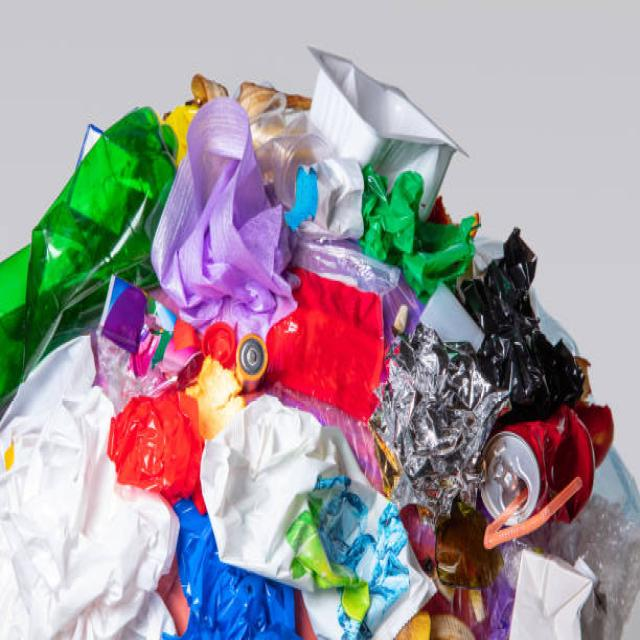metal: (312, 39, 457, 193), (490, 436, 600, 546)
plastic: (115, 136, 397, 584)
